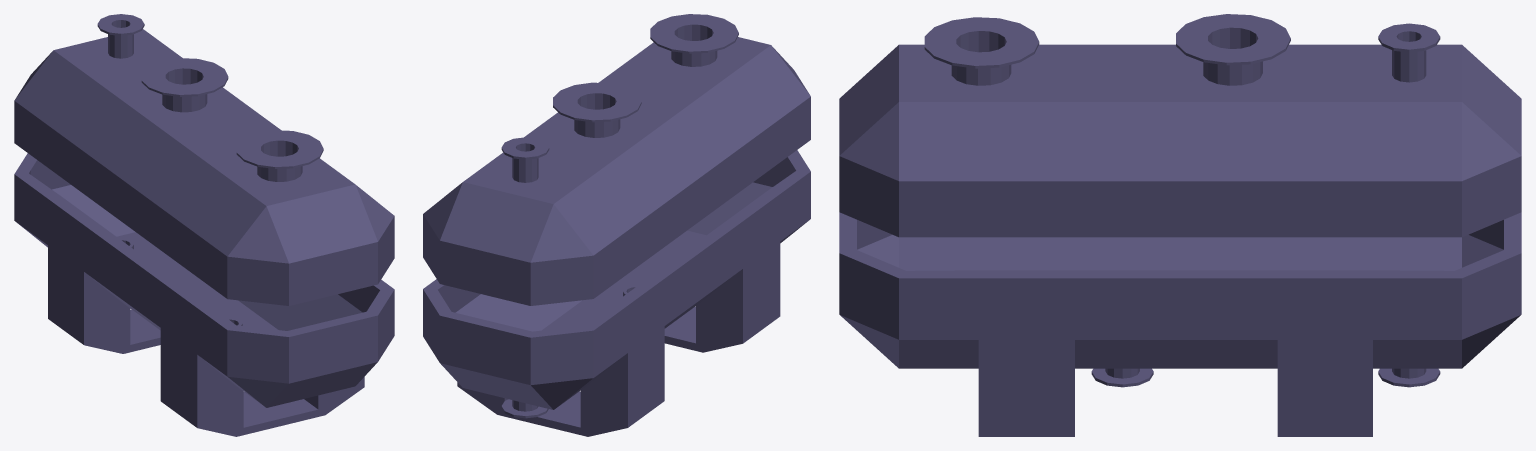
File: pressure vessel keskelt.fbx
3 renders of one model, left to right at view 1: azimuth 30°, elevation 25°; view 2: azimuth 150°, elevation 25°; view 3: azimuth 270°, elevation 25°, orthographic. The views are drawn at different scales.
Visible parts, largest first — view 1: Cube.001, Cube, suur toru.003, suur toru.002, peenem toru.001; view 2: Cube.001, Cube, suur toru.003, suur toru.002, peenem toru.001, peenem toru tagurpdi.002; view 3: Cube.001, Cube, suur toru.003, suur toru.002, peenem toru.001, peenem toru tagurpdi.002, peenem toru tagurpdi.003.
Part boxes in pixels (x1,y1,x2,y2): Cube.001: (14, 29, 394, 305); Cube: (14, 153, 394, 436); suur toru.003: (141, 58, 228, 112); suur toru.002: (236, 130, 323, 181); peenem toru.001: (97, 14, 144, 58); Cube.001: (423, 37, 810, 305); Cube: (423, 150, 810, 436); suur toru.003: (553, 82, 641, 137); suur toru.002: (650, 14, 738, 66); peenem toru.001: (501, 137, 549, 182); peenem toru tagurpdi.002: (501, 399, 548, 418); Cube.001: (839, 44, 1521, 237); Cube: (839, 212, 1521, 436); suur toru.003: (1176, 14, 1290, 85); suur toru.002: (924, 17, 1039, 85); peenem toru.001: (1378, 23, 1440, 82); peenem toru tagurpdi.002: (1378, 368, 1440, 387); peenem toru tagurpdi.003: (1091, 368, 1153, 387).
Size of the model in its own units: 310 by 500 by 830.
